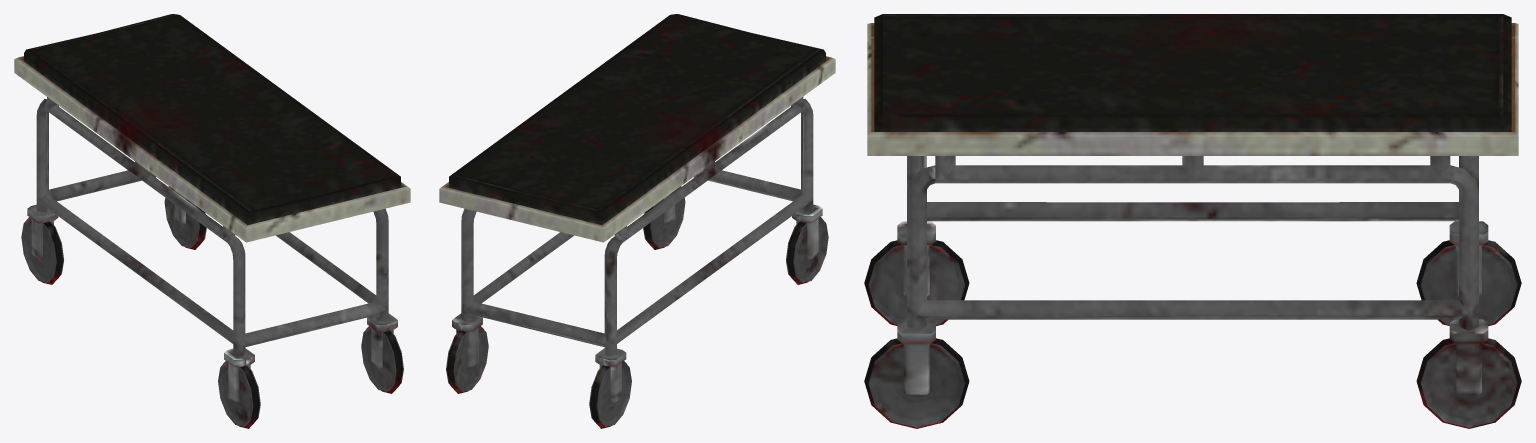
The model's file is gurney.glb.
3 renders of one model, left to right at view 1: azimuth 30°, elevation 25°; view 2: azimuth 150°, elevation 25°; view 3: azimuth 270°, elevation 25°, orthographic. The views are drawn at different scales.
Parts seen in each view (by area): view 1: Mattress, Metal Underside_Gurney_0, Top, Outer Wheel_07_Gurney_0, Outer Wheel_03_Gurney_0, Outer Wheel_01_Gurney_0, Outer Wheel_05_Gurney_0, Wheel Holder 02, Wheel Holder 04, Wheel Holder 01, Wheel Rubber 01_Gurney_0, Wheel Rubber 04_Gurney_0 (+1 smaller); view 2: Mattress, Metal Underside_Gurney_0, Top, Outer Wheel_03_Gurney_0, Outer Wheel_05_Gurney_0, Outer Wheel_01_Gurney_0, Outer Wheel_07_Gurney_0, Wheel Holder 01, Wheel Holder 03, Wheel Holder 02, Wheel Rubber 02_Gurney_0, Wheel Rubber 03_Gurney_0 (+1 smaller); view 3: Mattress, Metal Underside_Gurney_0, Top, Outer Wheel_08_Gurney_0, Outer Wheel_06_Gurney_0, Outer Wheel_04_Gurney_0, Outer Wheel_02_Gurney_0, Wheel Holder 04, Wheel Holder 03, Wheel Rubber 04_Gurney_0, Wheel Rubber 03_Gurney_0, Wheel Rubber 01_Gurney_0 (+3 smaller).
Part boxes in pixels (x1=…): Mattress: x1=24, y1=14, x2=400, y2=224; Metal Underside_Gurney_0: x1=36, y1=97, x2=388, y2=356; Top: x1=14, y1=56, x2=410, y2=242; Outer Wheel_07_Gurney_0: x1=361, y1=326, x2=396, y2=391; Outer Wheel_03_Gurney_0: x1=218, y1=361, x2=253, y2=426; Outer Wheel_01_Gurney_0: x1=21, y1=217, x2=56, y2=282; Outer Wheel_05_Gurney_0: x1=164, y1=186, x2=199, y2=247; Wheel Holder 02: x1=224, y1=348, x2=254, y2=403; Wheel Holder 04: x1=367, y1=313, x2=397, y2=368; Wheel Holder 01: x1=27, y1=204, x2=58, y2=259; Wheel Rubber 01_Gurney_0: x1=27, y1=217, x2=63, y2=284; Wheel Rubber 04_Gurney_0: x1=366, y1=326, x2=402, y2=393; Mattress: x1=449, y1=14, x2=825, y2=224; Metal Underside_Gurney_0: x1=461, y1=97, x2=813, y2=356; Top: x1=439, y1=56, x2=835, y2=242; Outer Wheel_03_Gurney_0: x1=793, y1=217, x2=828, y2=282; Outer Wheel_05_Gurney_0: x1=453, y1=326, x2=488, y2=391; Outer Wheel_01_Gurney_0: x1=596, y1=361, x2=631, y2=426; Outer Wheel_07_Gurney_0: x1=650, y1=186, x2=685, y2=247; Wheel Holder 01: x1=595, y1=348, x2=626, y2=402; Wheel Holder 03: x1=452, y1=313, x2=482, y2=368; Wheel Holder 02: x1=792, y1=204, x2=822, y2=259; Wheel Rubber 02_Gurney_0: x1=787, y1=217, x2=823, y2=284; Wheel Rubber 03_Gurney_0: x1=447, y1=326, x2=483, y2=393; Mattress: x1=874, y1=14, x2=1511, y2=131; Metal Underside_Gurney_0: x1=907, y1=156, x2=1478, y2=330; Top: x1=867, y1=23, x2=1518, y2=155; Outer Wheel_08_Gurney_0: x1=868, y1=343, x2=965, y2=427; Outer Wheel_06_Gurney_0: x1=1420, y1=343, x2=1517, y2=427; Outer Wheel_04_Gurney_0: x1=868, y1=245, x2=965, y2=324; Outer Wheel_02_Gurney_0: x1=1420, y1=245, x2=1517, y2=324; Wheel Holder 04: x1=897, y1=319, x2=935, y2=394; Wheel Holder 03: x1=1449, y1=319, x2=1488, y2=394; Wheel Rubber 04_Gurney_0: x1=864, y1=338, x2=969, y2=428; Wheel Rubber 03_Gurney_0: x1=1416, y1=338, x2=1521, y2=428; Wheel Rubber 01_Gurney_0: x1=1416, y1=240, x2=1521, y2=325.
Size of the model in its own units: 0.759 by 0.9897 by 1.87.
1 material, 1 textured.
